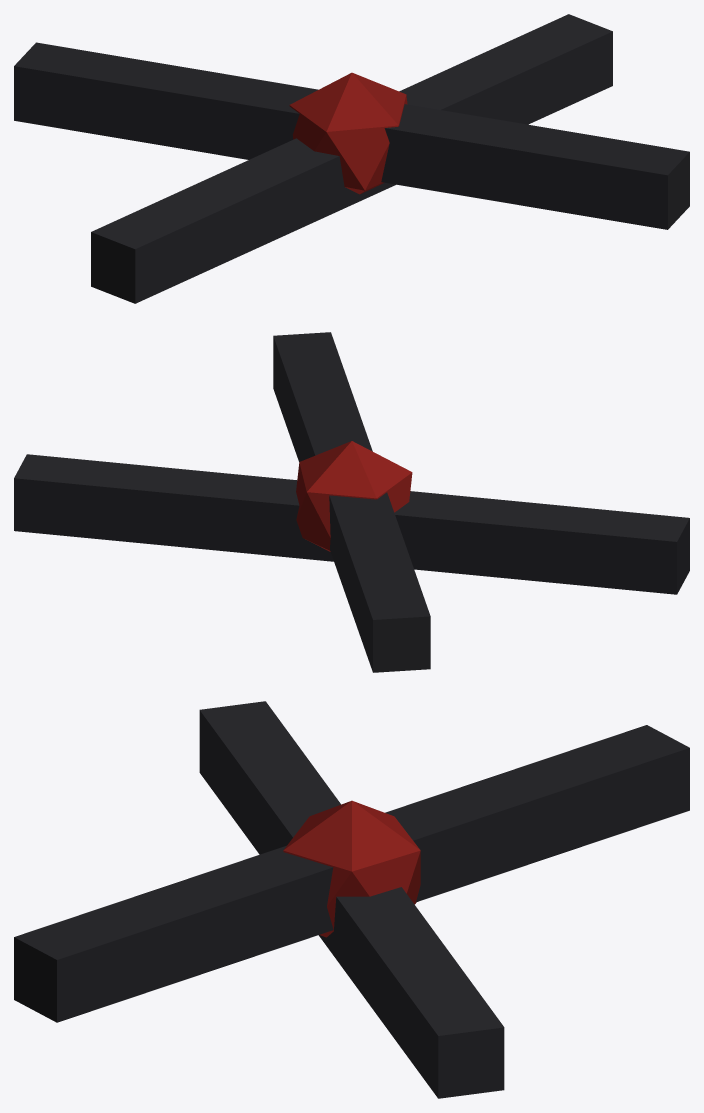
The model's file is village_iron_charm.glb.
3 renders of one model, top to bottom at view 1: azimuth 30°, elevation 25°; view 2: azimuth 150°, elevation 25°; view 3: azimuth 270°, elevation 25°, orthographic. The views are drawn at different scales.
Parts seen in each view (by area): view 1: village_iron_charm; view 2: village_iron_charm; view 3: village_iron_charm.
Boxes of the visible parts, x1,y1,x2,y2 form: village_iron_charm: (14,14,689,303); village_iron_charm: (14,332,689,672); village_iron_charm: (14,701,689,1098).
Size of the model in its own units: 0.1373 by 0.028 by 0.1171.
